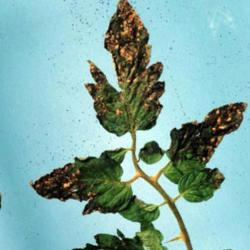Tomato Septoria leaf spot: (48, 0, 191, 151), (24, 133, 146, 236), (140, 88, 250, 193)
